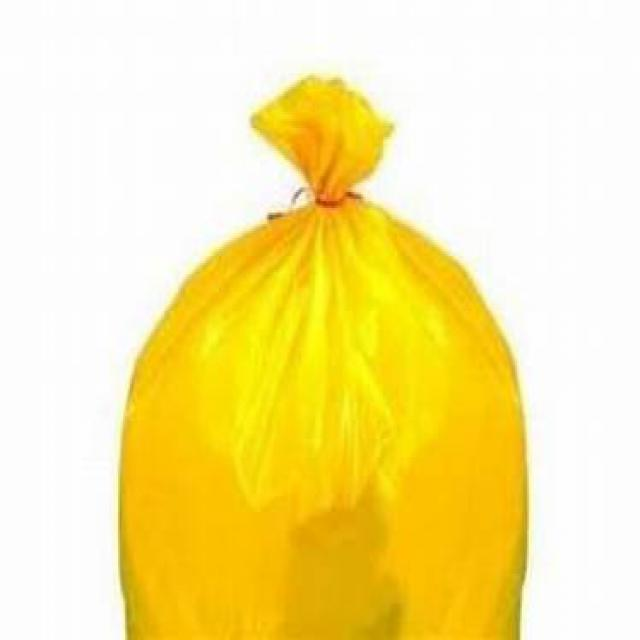waste: (111, 75, 531, 639)
